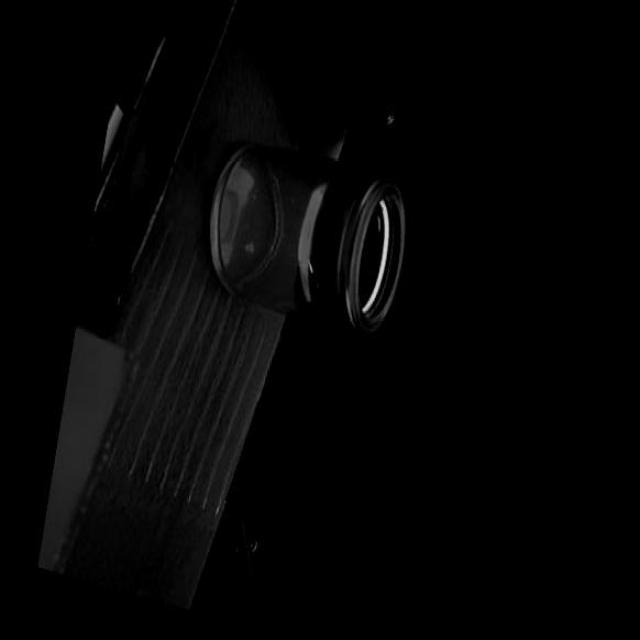defect: (306, 258, 320, 292)
glass: (195, 125, 416, 351)
